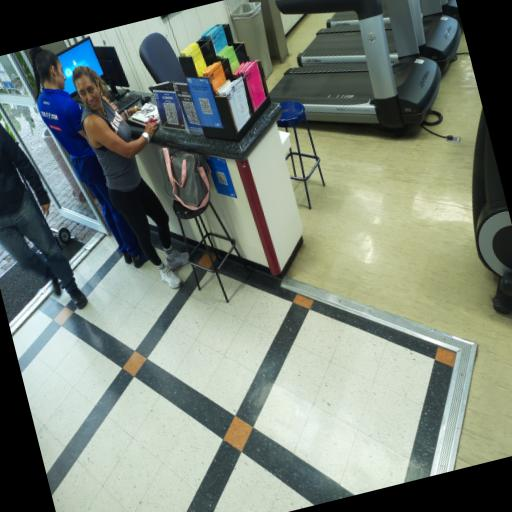person: (30, 46, 146, 267), (73, 66, 188, 288), (0, 123, 87, 308)
